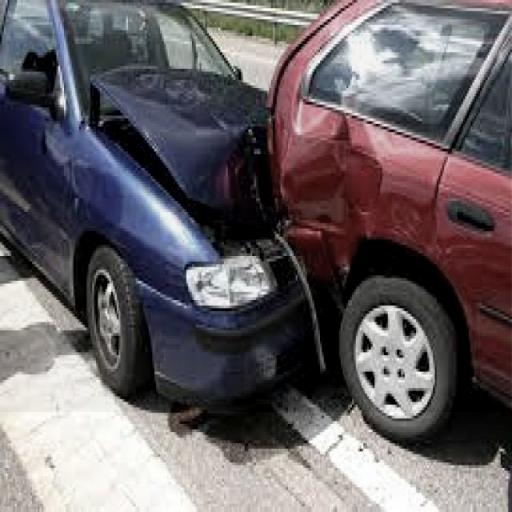小汽车撞小汽车: (0, 34, 511, 412)
